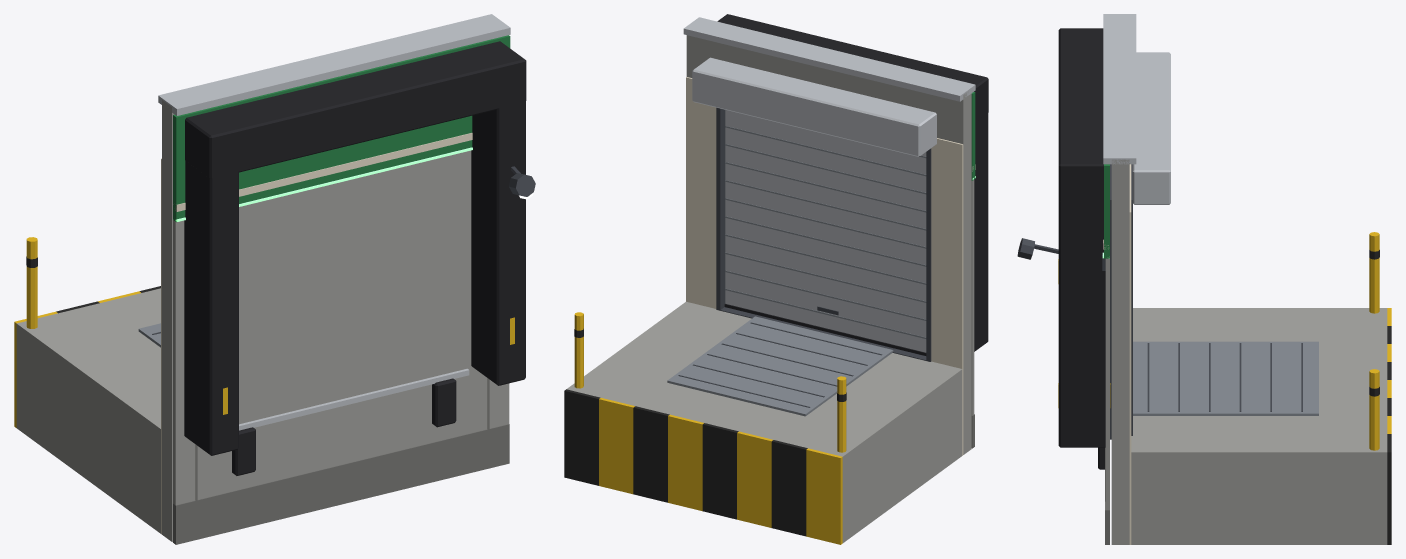
Rendered from Dock_Door_Roller_Market_4m.fbx.
3 renders of one model, left to right at view 1: azimuth 30°, elevation 25°; view 2: azimuth 150°, elevation 25°; view 3: azimuth 270°, elevation 25°, orthographic. The views are drawn at different scales.
Visible parts, largest first — view 1: Dock_Door_Roller_Market_4m; view 2: Dock_Door_Roller_Market_4m, Dock_Door_Roller_Market_4m_Door; view 3: Dock_Door_Roller_Market_4m.
Boxes of the visible parts, <box> form: Dock_Door_Roller_Market_4m: <box>14,14,535,544</box>; Dock_Door_Roller_Market_4m: <box>564,14,988,544</box>; Dock_Door_Roller_Market_4m_Door: <box>724,110,926,355</box>; Dock_Door_Roller_Market_4m: <box>1017,14,1391,544</box>.
Bounding box in the file's own units: 4 × 5 × 4.39.
1 material, 1 textured.
